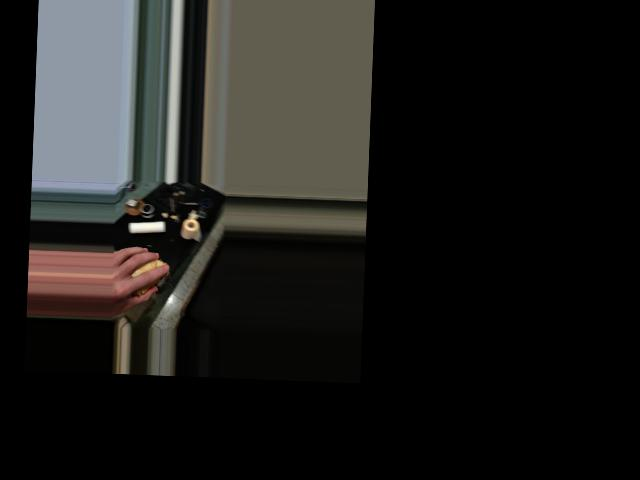onion: (122, 255, 168, 298)
